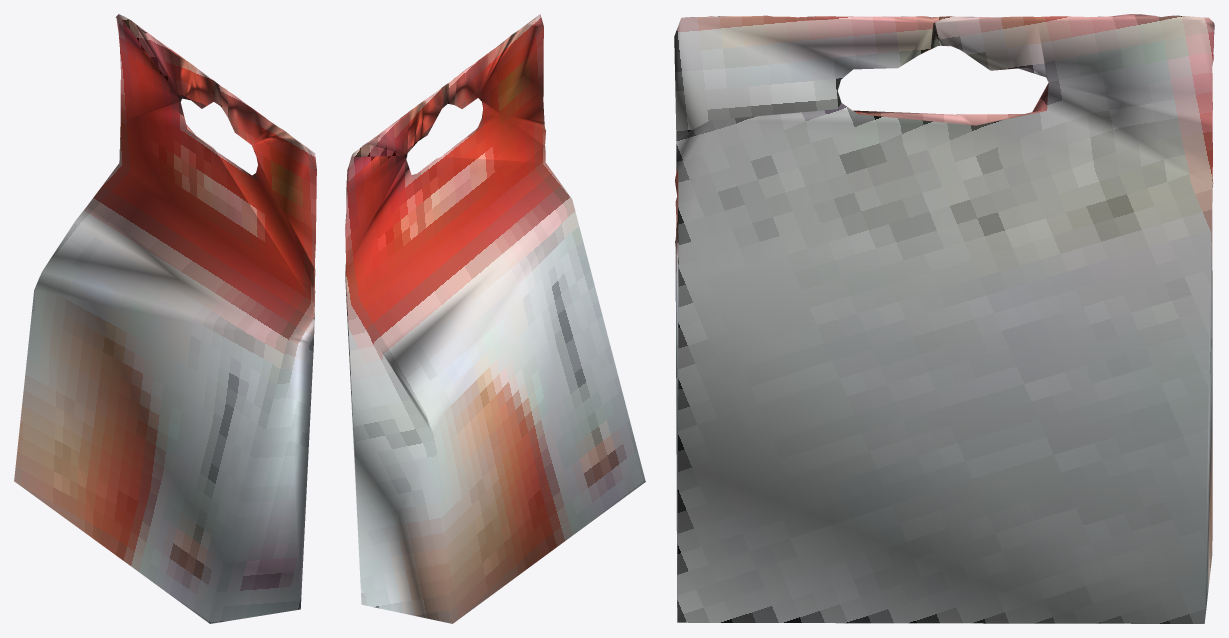
File: Canon_Pixma_Ink_Cartridge_8_Red-low.glb
3 renders of one model, left to right at view 1: azimuth 30°, elevation 25°; view 2: azimuth 150°, elevation 25°; view 3: azimuth 270°, elevation 25°, orthographic. The views are drawn at different scales.
Visible parts, largest first — view 1: Canon_Pixma_Ink_Cartridge_8_Red; view 2: Canon_Pixma_Ink_Cartridge_8_Red; view 3: Canon_Pixma_Ink_Cartridge_8_Red.
Boxes of the visible parts, x1,y1,x2,y2 form: Canon_Pixma_Ink_Cartridge_8_Red: (14, 14, 316, 623); Canon_Pixma_Ink_Cartridge_8_Red: (345, 14, 645, 623); Canon_Pixma_Ink_Cartridge_8_Red: (674, 14, 1214, 623).
Bounding box in the file's own units: 0.0284 × 0.1126 × 0.0894.
Materials: 1 (1 with a texture image).
